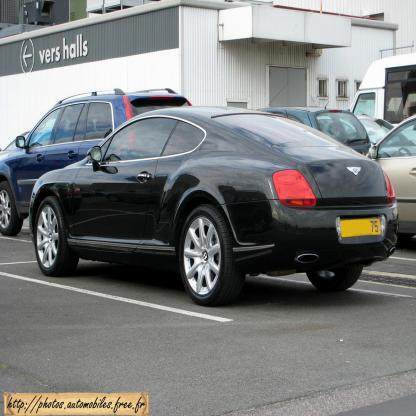Vehicle: (28, 107, 404, 308)
